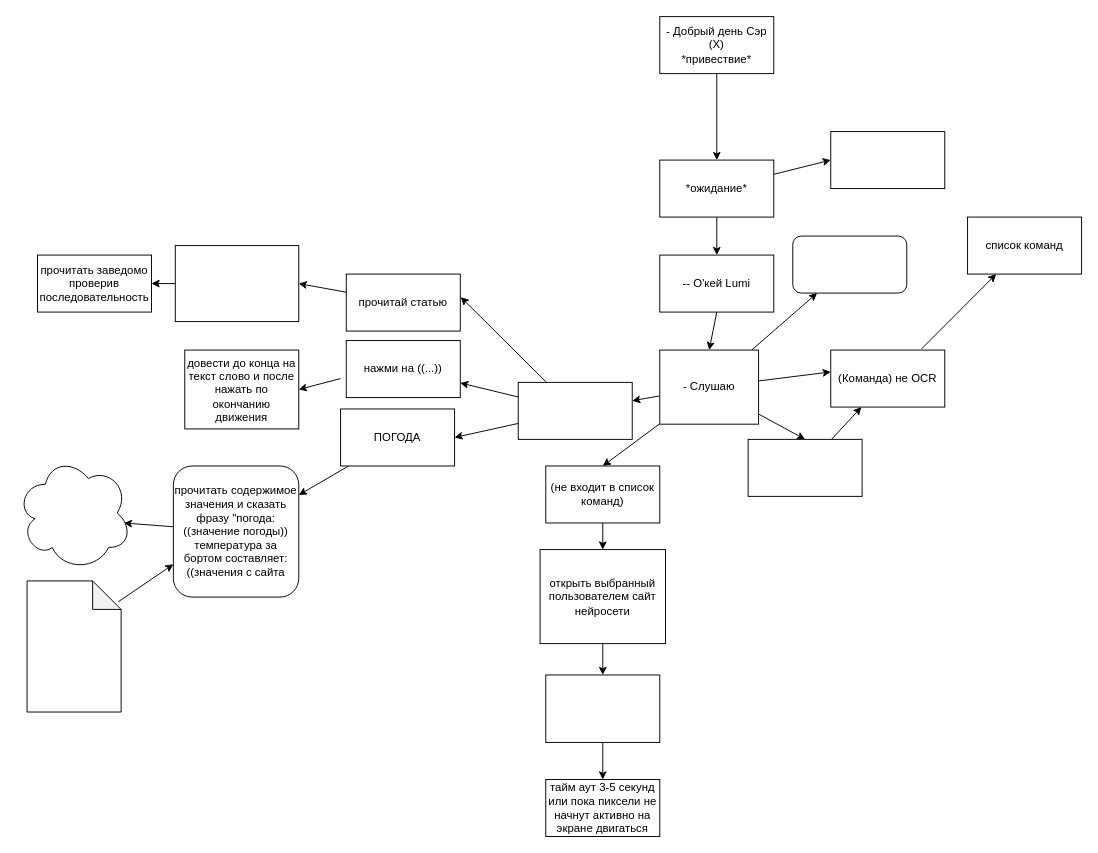
Image size: 1098x853. Some labels were removed from this diagram. Here are the shapes that lost their labels. From the top down, the centre of each, then its label:
[887,160]: рандомизировать анимации каждые 3-5 минут
[236,283]: сделать верстку отрытого окна браузера и взять слова в <h>
[849,264]: *прислонить ухо к экрану*
[574,410]: (Комадна) OCR
[804,467]: Кастомная команда через gui
[74,512]: желательно не отображать это пользователю
[73,646]: значение взять с помощью вёрстки открытого сайта
[602,708]: создать чат и ввести в поиск с вопросом пользоваытеля ((OCR))
